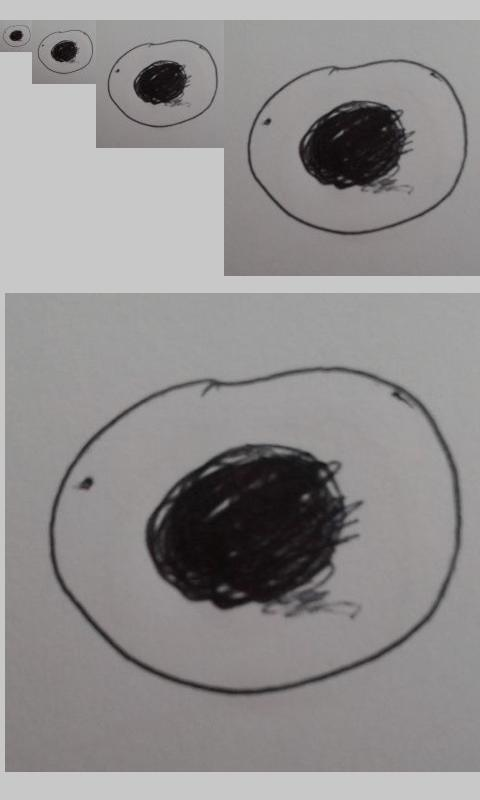radio_button: (46, 363, 465, 701), (247, 58, 470, 238), (106, 38, 220, 129), (37, 29, 94, 75), (2, 24, 31, 48)
